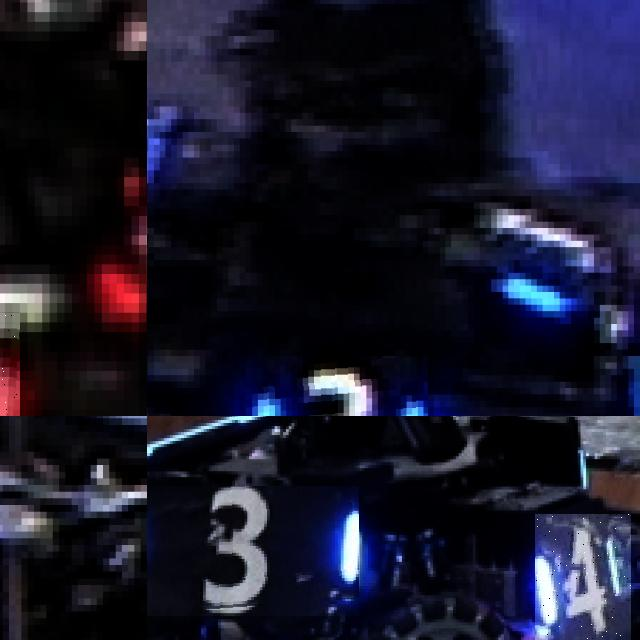B3: (147, 486, 359, 616), (245, 356, 428, 416)
B4: (534, 513, 631, 640)
